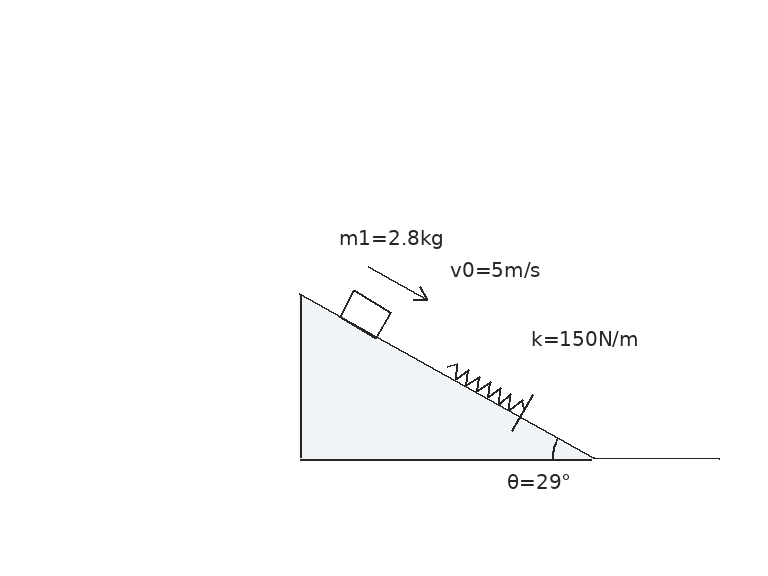block: (337, 288, 392, 339)
ramp: (297, 293, 595, 460)
spring: (445, 362, 526, 411)
